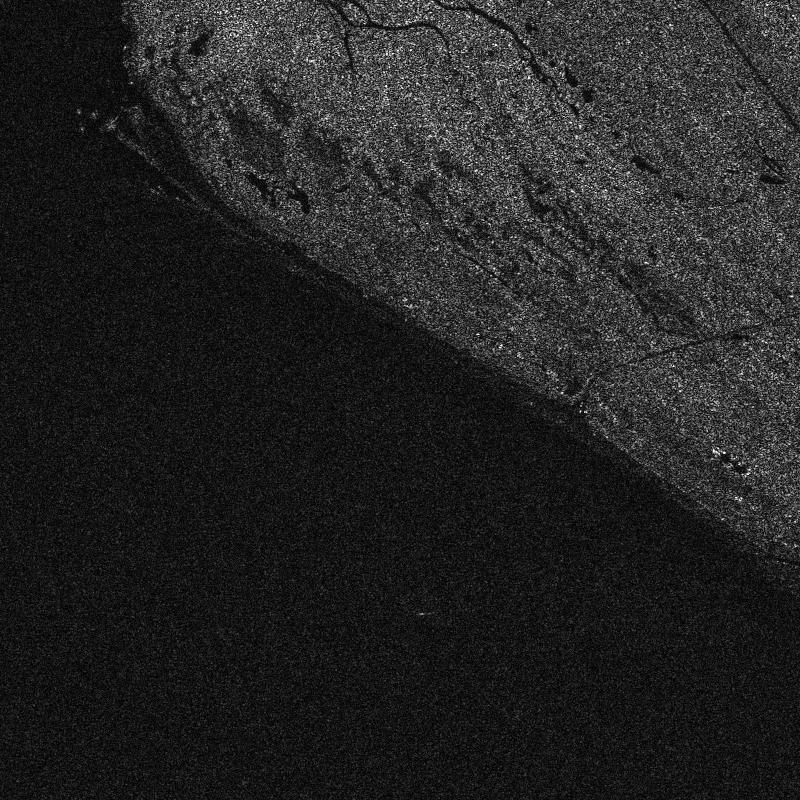land: (159, 11, 789, 205), (344, 232, 787, 305), (525, 329, 791, 417)
sea: (38, 534, 773, 769), (18, 359, 473, 480), (22, 36, 134, 318)
